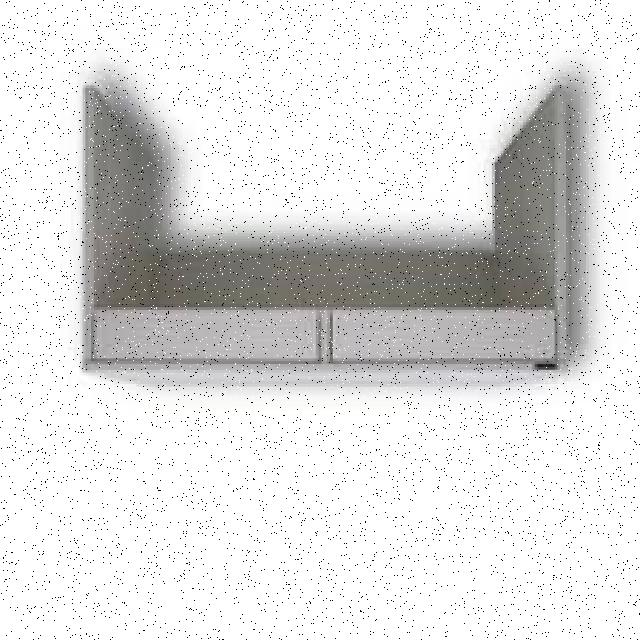mobile-phone: (83, 78, 582, 396)
